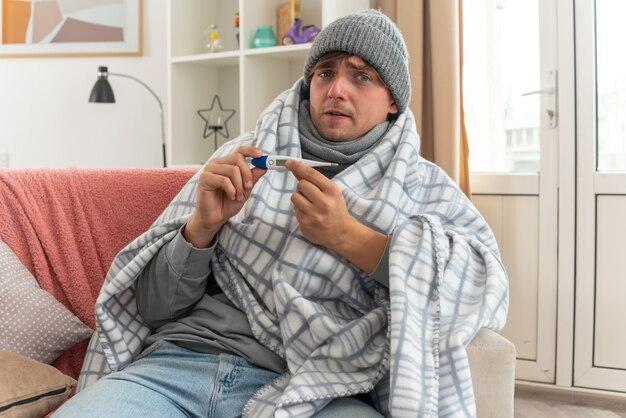blanket: (73, 73, 510, 418)
trousers: (44, 337, 388, 418)
